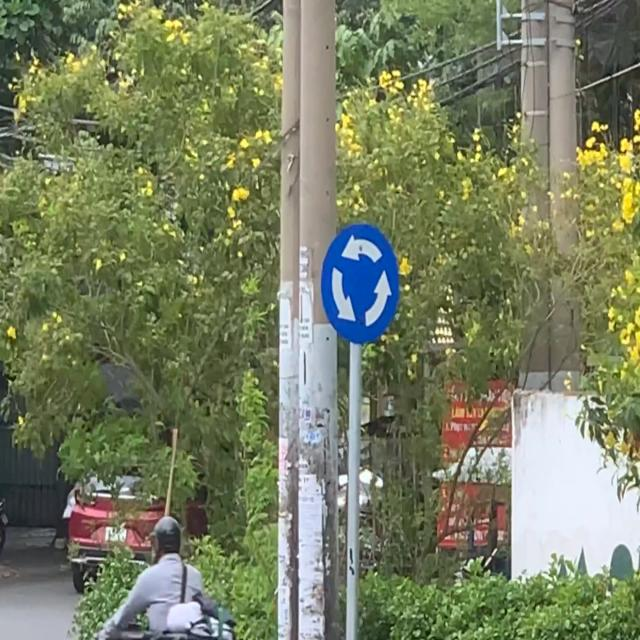Vong xuyen: (320, 223, 408, 346)
